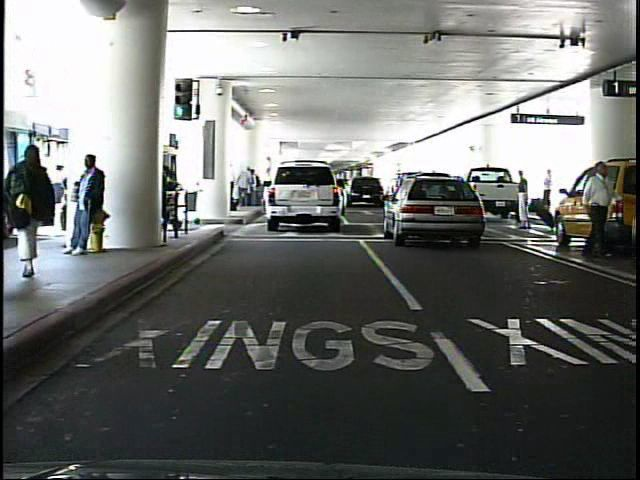person: (8, 140, 59, 275), (71, 149, 109, 256), (583, 156, 619, 261), (512, 169, 532, 231), (544, 168, 556, 213)
